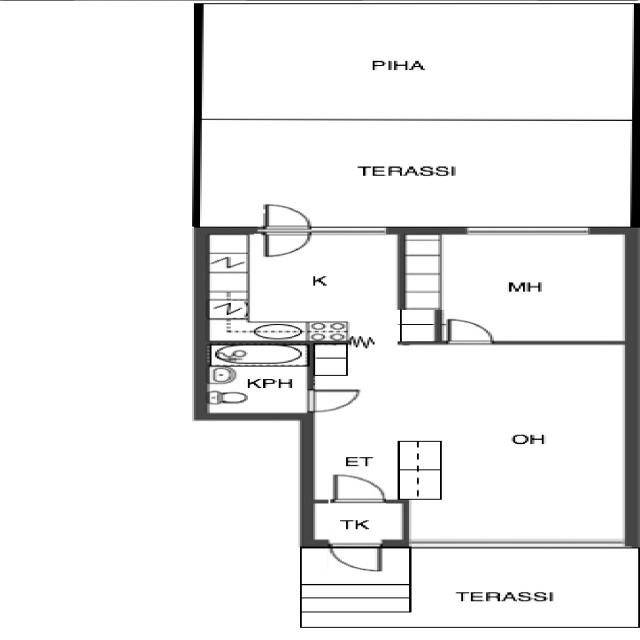door: (254, 201, 314, 260), (299, 386, 368, 413), (328, 541, 384, 574), (331, 472, 388, 504), (441, 316, 498, 344)
window: (452, 221, 600, 238), (306, 222, 398, 240)
zone: (308, 343, 634, 544), (402, 231, 631, 343), (200, 231, 408, 342), (201, 342, 315, 416), (309, 502, 406, 543)
